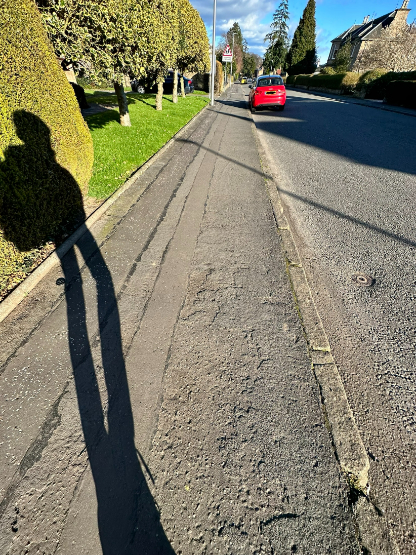car: (129, 69, 195, 97), (249, 76, 291, 111), (240, 76, 248, 86)
tree: (33, 0, 171, 125), (291, 4, 331, 73), (267, 4, 292, 71)
